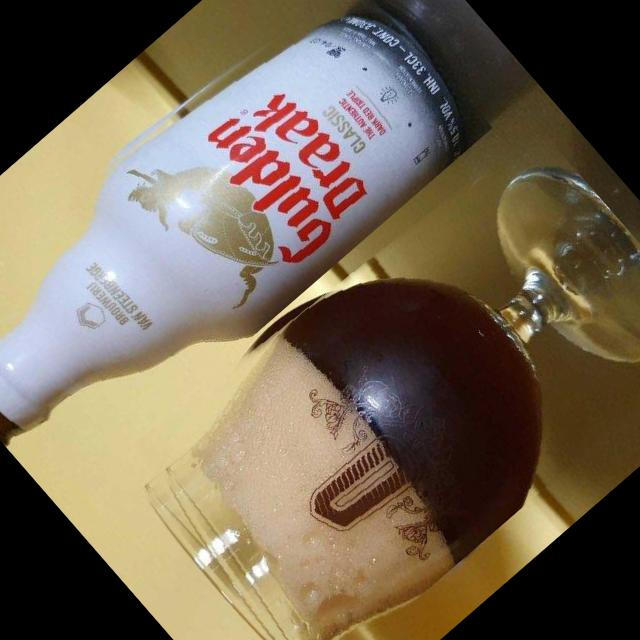Glass: (108, 105, 640, 640), (0, 0, 493, 505)
